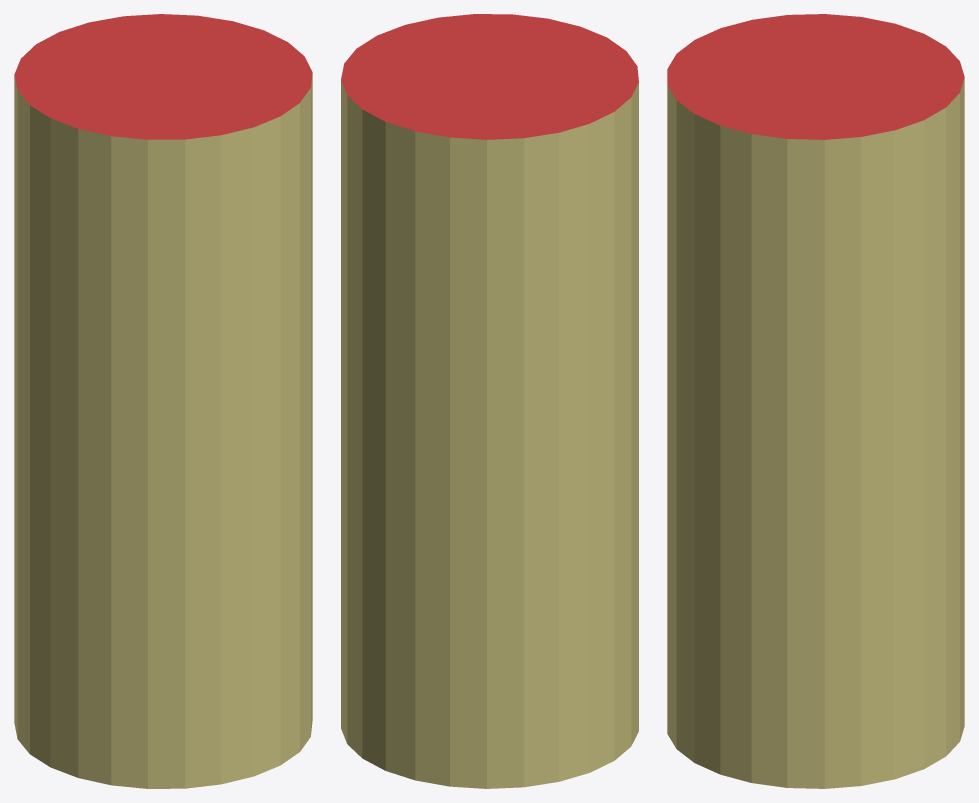
3 renders of one model, left to right at view 1: azimuth 30°, elevation 25°; view 2: azimuth 150°, elevation 25°; view 3: azimuth 270°, elevation 25°, orthographic.
Size of the model in its own units: 3.35 by 3.34 by 8.04.
